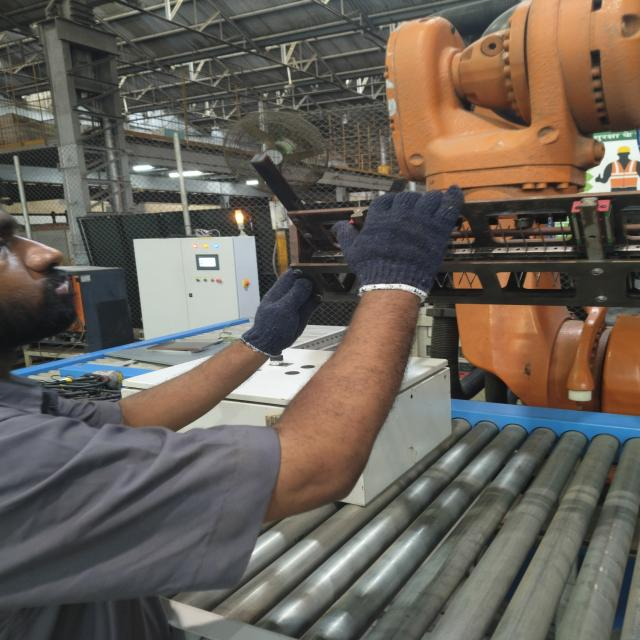Gloves-Detection: (329, 186, 462, 295), (244, 262, 318, 353)
